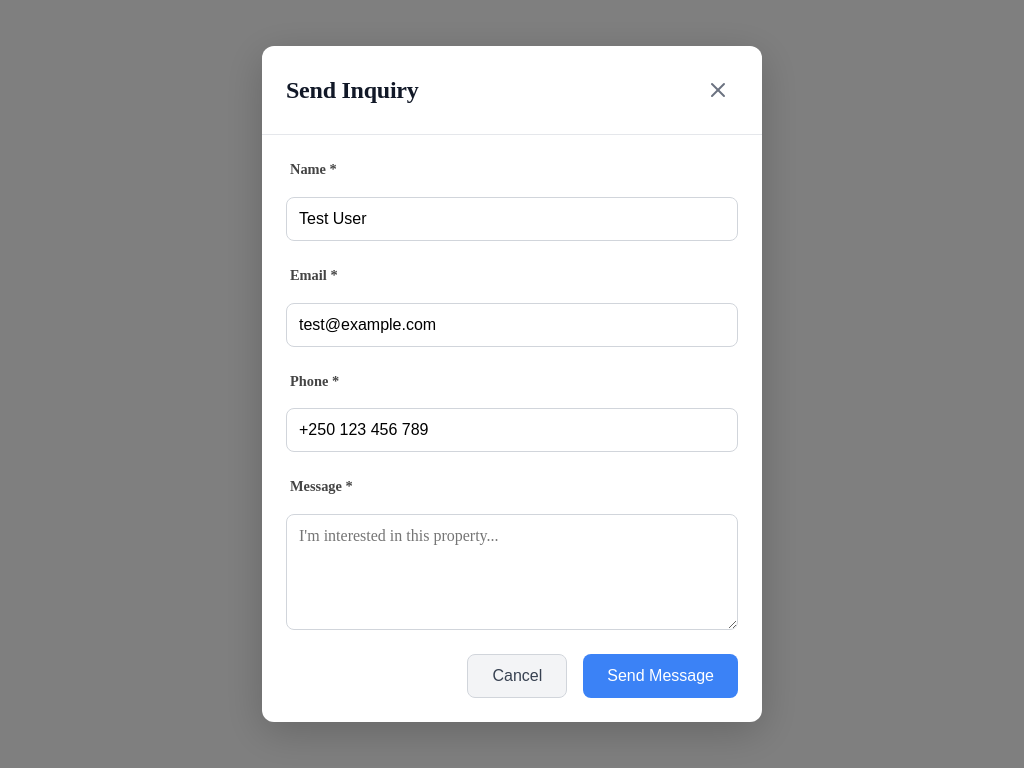
Scenario: InquiryForm Component › validates email format
Replace the text in the field labelled "Email *" with "invalid-email" at (512, 324), box [286, 302, 738, 346]
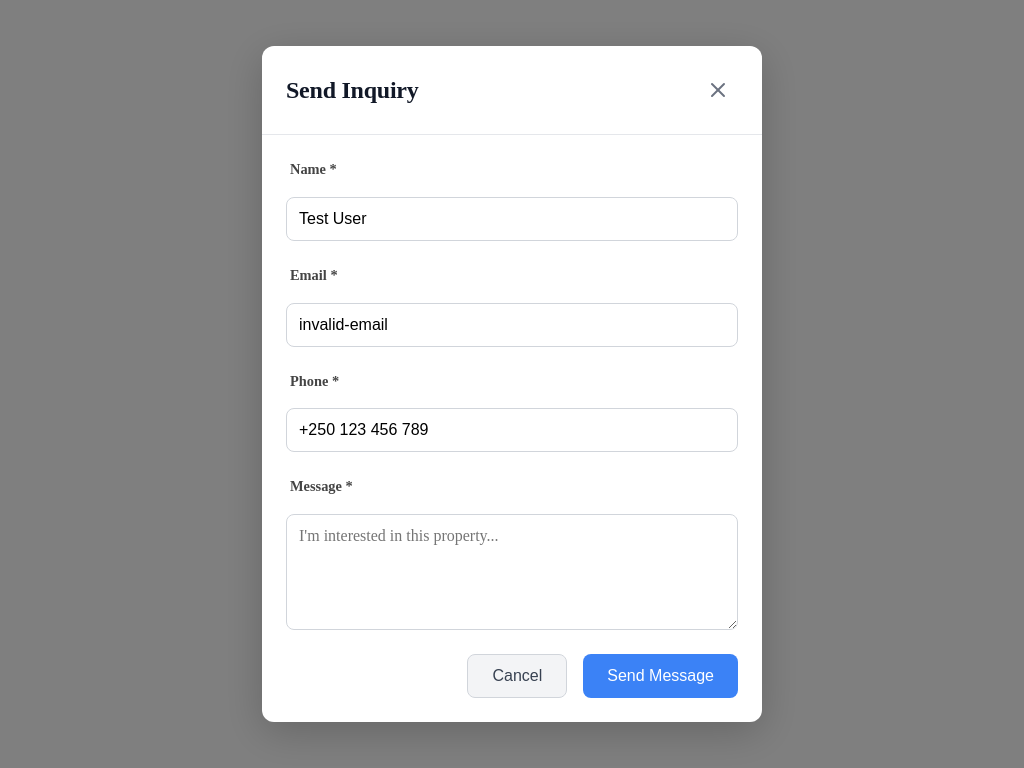
Leave the field labelled "Email *", box [286, 302, 738, 346]
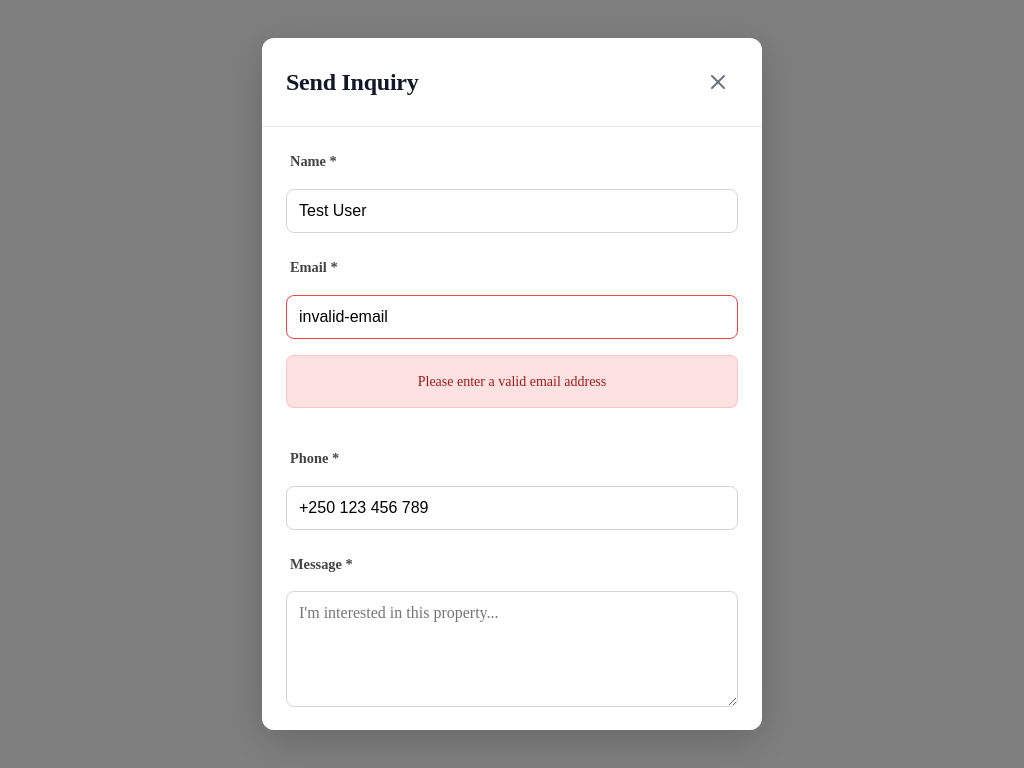
Result: the text "Please enter a valid email address" is shown at [286, 355, 738, 408]
